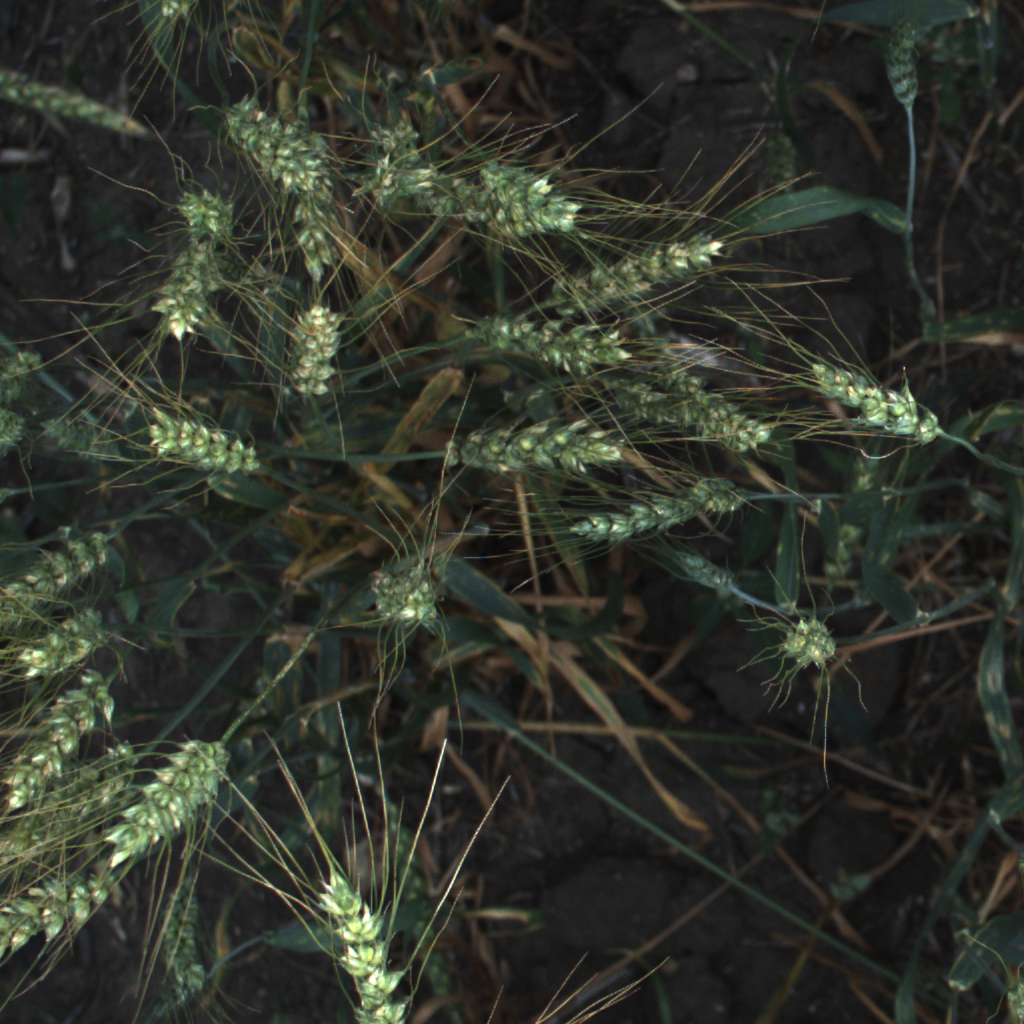wheat_head: (372, 784, 475, 1021), (299, 856, 424, 1024), (1, 723, 147, 865), (100, 732, 239, 877), (0, 662, 127, 815), (541, 223, 735, 309), (0, 853, 131, 980), (0, 511, 129, 635), (131, 387, 271, 500), (350, 525, 480, 645), (804, 351, 953, 455), (217, 87, 342, 208), (454, 301, 639, 382), (557, 473, 759, 547), (819, 419, 902, 593), (0, 60, 162, 149), (601, 382, 780, 457), (6, 588, 147, 683), (442, 418, 647, 480), (148, 861, 220, 1015), (425, 179, 597, 242), (140, 223, 228, 344), (277, 293, 354, 410), (757, 596, 850, 689), (289, 163, 343, 293), (867, 7, 931, 110), (31, 408, 128, 470), (169, 181, 247, 252), (471, 152, 568, 208), (357, 120, 420, 200), (664, 547, 751, 601), (139, 0, 208, 48)
